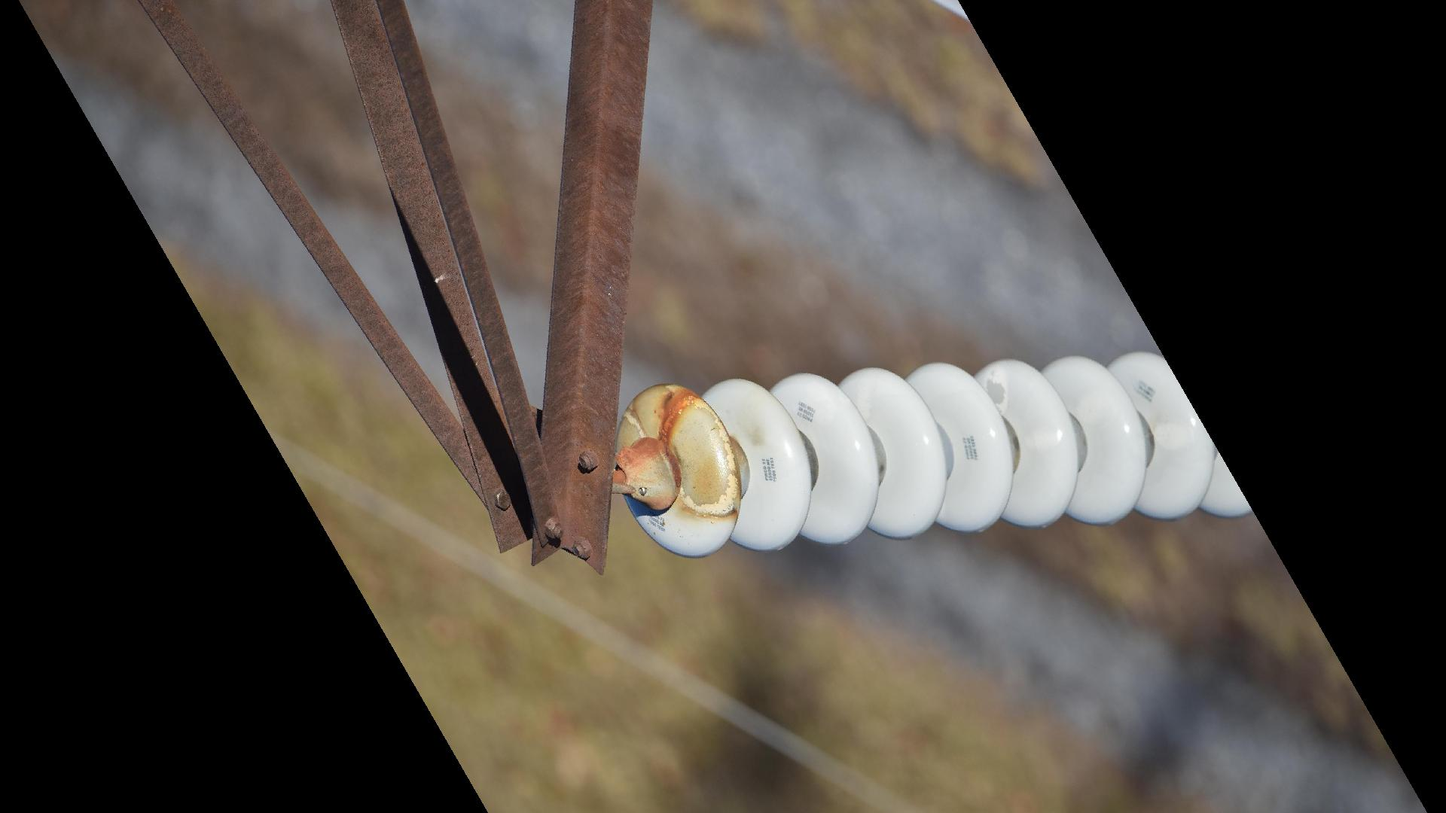insulator: (610, 344, 1259, 565)
insulator_flashover: (627, 381, 739, 513)
